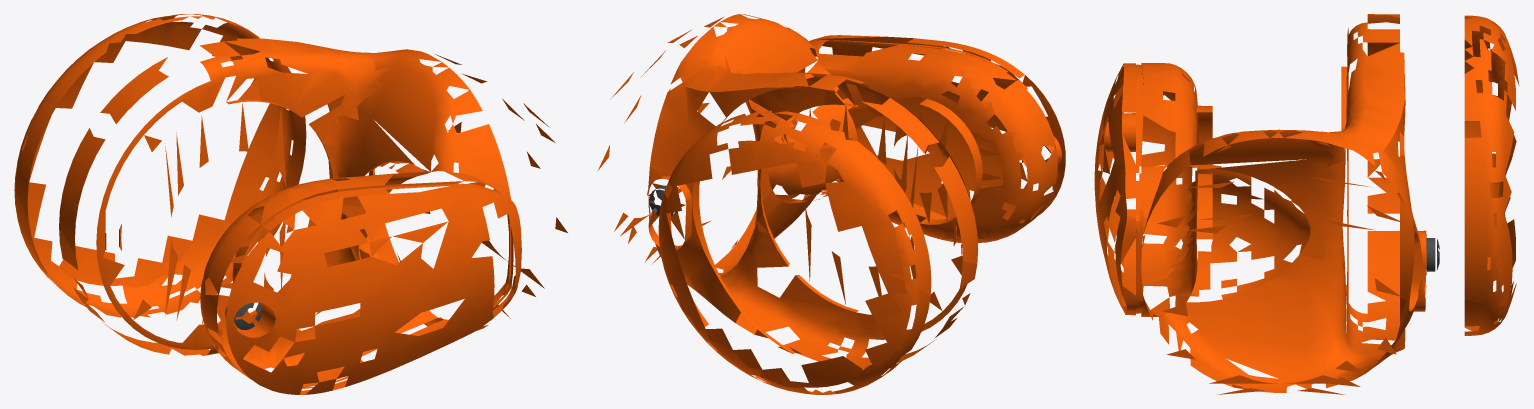
File: KR210R2700prime_KRxxxRultra.5_1_Product.dae
3 renders of one model, left to right at view 1: azimuth 30°, elevation 25°; view 2: azimuth 150°, elevation 25°; view 3: azimuth 270°, elevation 25°, orthographic. The views are drawn at different scales.
Parts seen in each view (by area): view 1: KR210R2700prime_KRxxxRultra.5_1; view 2: KR210R2700prime_KRxxxRultra.5_1; view 3: KR210R2700prime_KRxxxRultra.5_1 (×2).
Boxes of the visible parts, x1=… form: KR210R2700prime_KRxxxRultra.5_1: x1=14, y1=14, x2=567, y2=394; KR210R2700prime_KRxxxRultra.5_1: x1=597, y1=14, x2=1065, y2=394; KR210R2700prime_KRxxxRultra.5_1 (×2): x1=1094, y1=14, x2=1519, y2=394.
Bounding box in the file's own units: 333 × 315 × 240.
